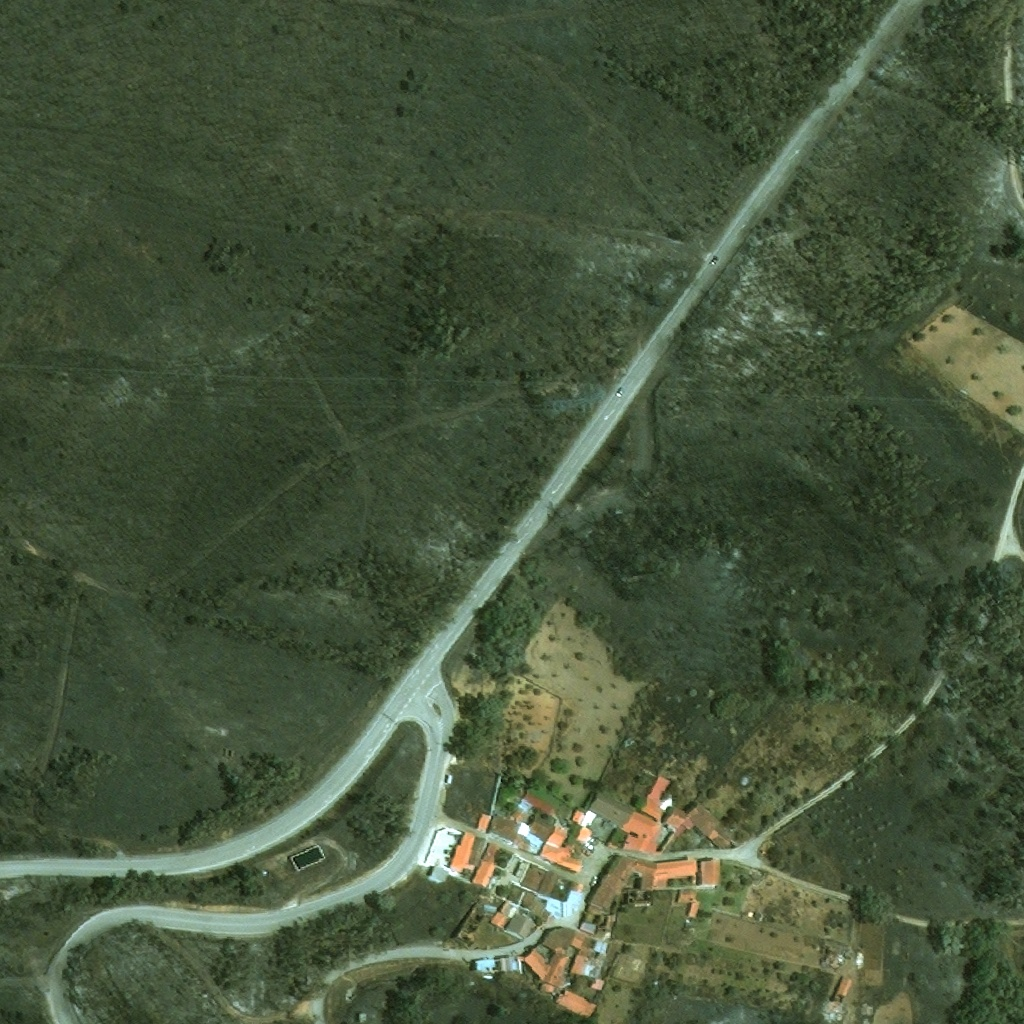0 no-damage: (587, 791, 668, 854), (671, 802, 734, 849), (584, 854, 631, 910), (631, 857, 697, 890), (521, 947, 568, 991), (537, 825, 581, 872), (447, 829, 488, 871), (516, 863, 559, 897), (520, 813, 554, 854), (638, 776, 668, 821), (554, 990, 596, 1021), (515, 789, 558, 818), (485, 812, 520, 843), (489, 899, 518, 931), (541, 929, 576, 954), (503, 913, 534, 941), (472, 956, 517, 974), (470, 860, 497, 888), (696, 858, 722, 887), (480, 840, 506, 865), (570, 951, 592, 974), (665, 808, 684, 828), (580, 940, 605, 954), (475, 813, 492, 833), (576, 826, 593, 843), (521, 891, 536, 910), (510, 774, 527, 790), (589, 978, 604, 992), (570, 934, 584, 949), (678, 891, 694, 903), (572, 809, 585, 823), (687, 903, 698, 918), (354, 1013, 367, 1023), (502, 805, 510, 814), (496, 803, 503, 810), (446, 775, 452, 783)
1 minor-damage: (578, 906, 603, 938)
2 major-damage: (453, 903, 489, 944), (823, 977, 851, 1016), (628, 890, 651, 906), (598, 915, 613, 929)
3 destroyed: (818, 944, 849, 964)
4 un-classified: (517, 663, 529, 675), (439, 791, 446, 802)
